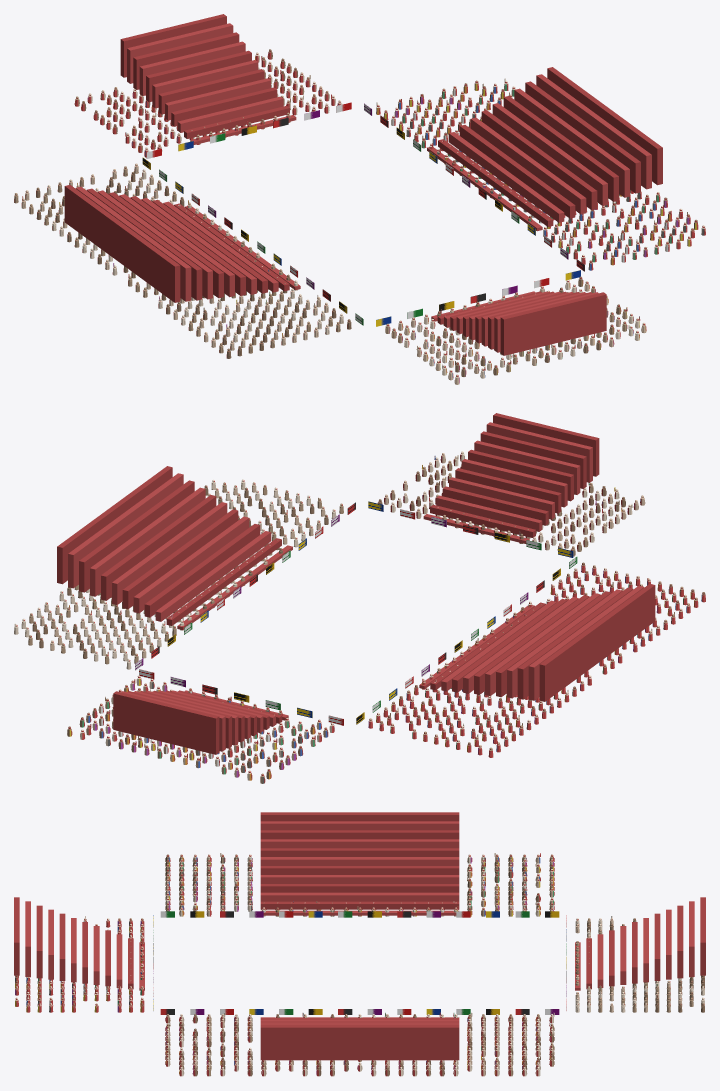
The model's file is Stadium.fbx.
3 renders of one model, top to bottom at view 1: azimuth 30°, elevation 25°; view 2: azimuth 150°, elevation 25°; view 3: azimuth 270°, elevation 25°, orthographic. The views are drawn at different scales.
Visible parts, largest first — view 1: Crowd, SideL_Row11, BaselineB_Row11, SideR_Row11, SideR_Row10, SideR_Row9, SideR_Row8, SideR_Row7, SideR_Row6, SideR_Row5, SideR_Row4, SideR_Row3 (+25 smaller); view 2: Crowd, SideL_Row11, BaselineA_Row11, SideR_Row11, SideR_Row10, SideR_Row9, SideR_Row8, SideR_Row7, SideR_Row6, SideR_Row5, SideR_Row4, SideR_Row3 (+25 smaller); view 3: Crowd, SideR_Row11, SideL_Row10, SideL_Row11, SideL_Row2, SideL_Row8, SideL_Row9, SideL_Row3, SideL_Row4, SideL_Row5, SideL_Row6, SideL_Row7 (+12 smaller).
Part boxes in pixels (left/top/right/bottom): Crowd: left=14, top=49, right=705, bottom=384; SideL_Row11: left=64, top=185, right=180, bottom=302; BaselineB_Row11: left=500, top=292, right=606, bottom=355; SideR_Row11: left=547, top=67, right=662, bottom=185; SideR_Row10: left=536, top=74, right=651, bottom=189; SideR_Row9: left=525, top=81, right=640, bottom=193; SideR_Row8: left=514, top=88, right=629, bottom=197; SideR_Row7: left=503, top=96, right=618, bottom=201; SideR_Row6: left=492, top=103, right=607, bottom=205; SideR_Row5: left=481, top=110, right=597, bottom=210; SideR_Row4: left=470, top=117, right=586, bottom=214; SideR_Row3: left=459, top=125, right=575, bottom=218; Crowd: left=14, top=451, right=705, bottom=783; SideL_Row11: left=539, top=584, right=655, bottom=701; BaselineA_Row11: left=113, top=691, right=219, bottom=754; SideR_Row11: left=57, top=466, right=172, bottom=584; SideR_Row10: left=68, top=473, right=183, bottom=588; SideR_Row9: left=79, top=480, right=194, bottom=592; SideR_Row8: left=90, top=487, right=205, bottom=596; SideR_Row7: left=101, top=495, right=216, bottom=600; SideR_Row6: left=112, top=502, right=227, bottom=604; SideR_Row5: left=122, top=509, right=238, bottom=609; SideR_Row4: left=133, top=516, right=249, bottom=613; SideR_Row3: left=144, top=524, right=260, bottom=617; Crowd: left=15, top=853, right=704, bottom=1076; SideR_Row11: left=260, top=1025, right=459, bottom=1060; SideL_Row10: left=260, top=821, right=459, bottom=830; SideL_Row11: left=260, top=812, right=459, bottom=821; SideL_Row2: left=260, top=892, right=459, bottom=901; SideL_Row8: left=260, top=839, right=459, bottom=848; SideL_Row9: left=260, top=830, right=459, bottom=839; SideL_Row3: left=260, top=884, right=459, bottom=892; SideL_Row4: left=260, top=875, right=459, bottom=883; SideL_Row5: left=260, top=866, right=459, bottom=874; SideL_Row6: left=260, top=857, right=459, bottom=865; SideL_Row7: left=260, top=848, right=459, bottom=856.
Bounding box in the file's own units: 37.93 × 4.05 × 51.57.
